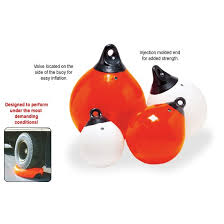buoy: (69, 68, 147, 155), (133, 104, 185, 165)
